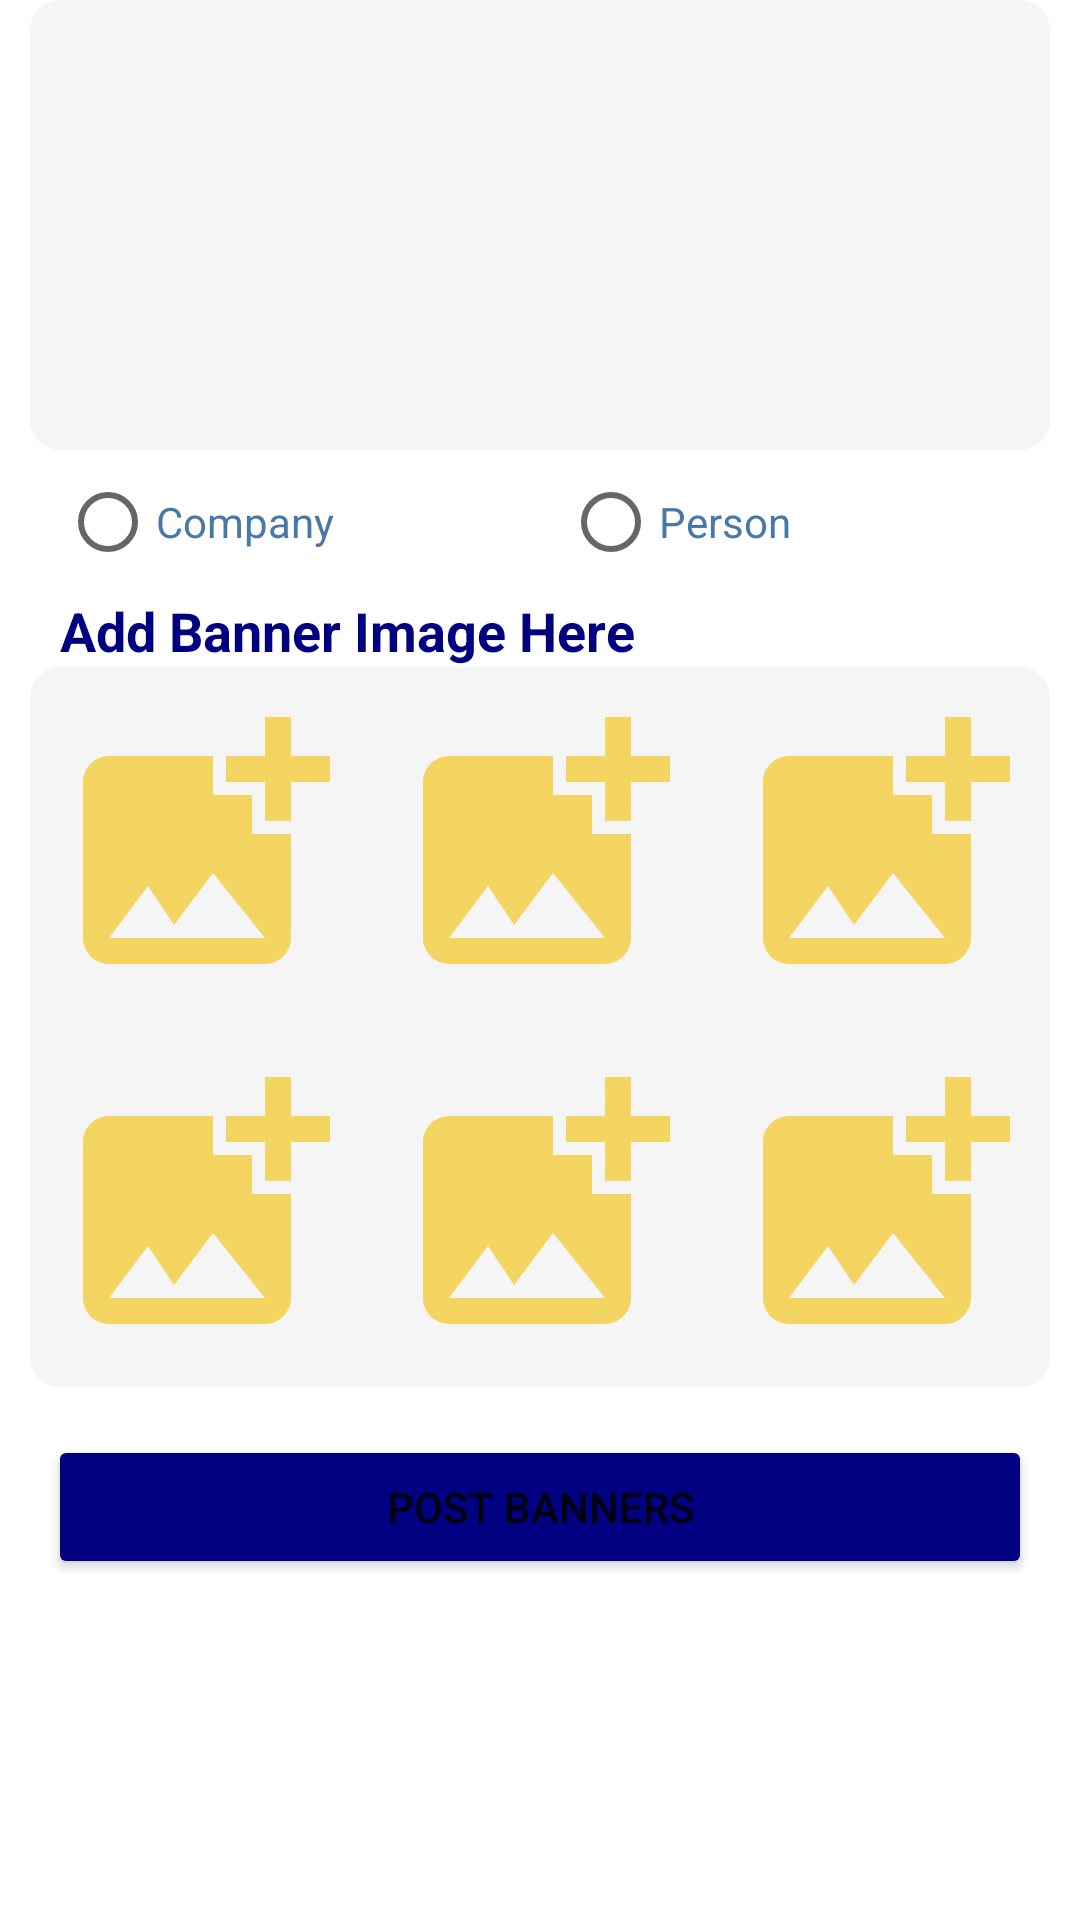

Point at icon controls on the screen. Image size 1080px x 1920px, points as [x,y].
addimg: [206,840], [546,840], [886,840], [206,1200], [546,1200], [886,1200]
